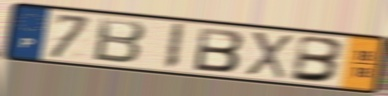7: (49, 13, 93, 60)
B: (288, 33, 347, 84), (91, 16, 148, 66), (192, 25, 247, 74)
I: (162, 22, 187, 72)
X: (243, 29, 294, 81)
